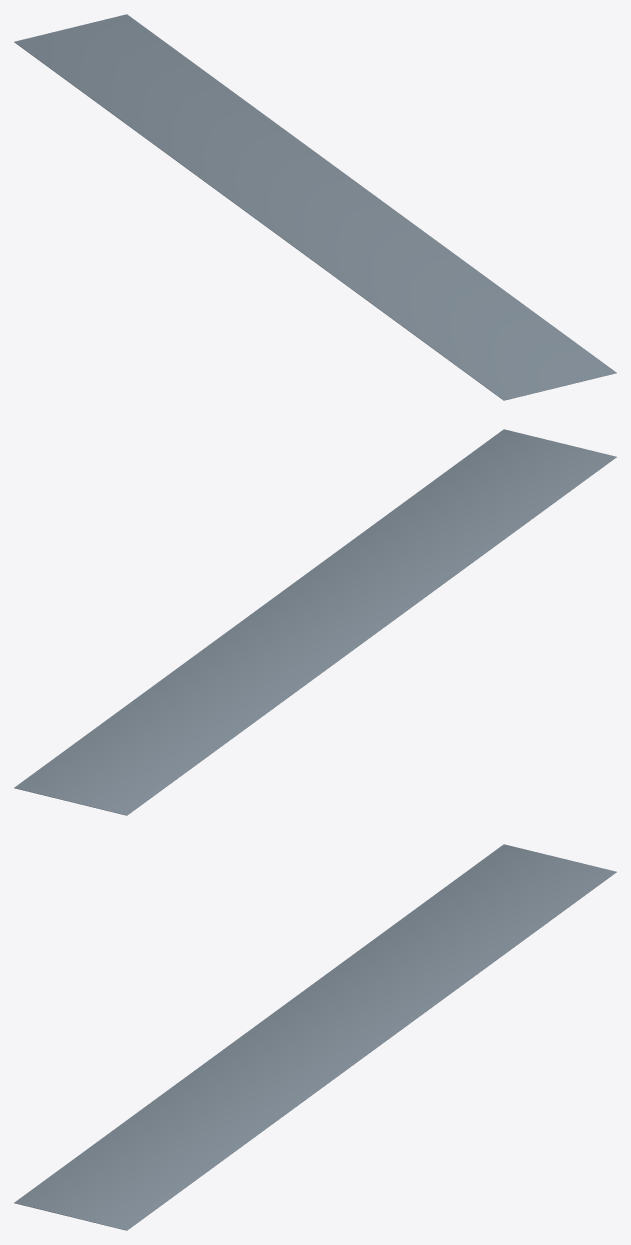
Rendered from s02_ground.glb.
3 renders of one model, top to bottom at view 1: azimuth 30°, elevation 25°; view 2: azimuth 150°, elevation 25°; view 3: azimuth 330°, elevation 25°, orthographic.
Parts seen in each view (by area): view 1: WalkStrip; view 2: WalkStrip; view 3: WalkStrip.
Part boxes in pixels (box(x1,y1,x2,y2)): WalkStrip: box(14, 14, 616, 400); WalkStrip: box(14, 429, 616, 815); WalkStrip: box(14, 844, 616, 1230).
Size of what is drawn, in the model's own units: 4 by 0.015 by 30.
